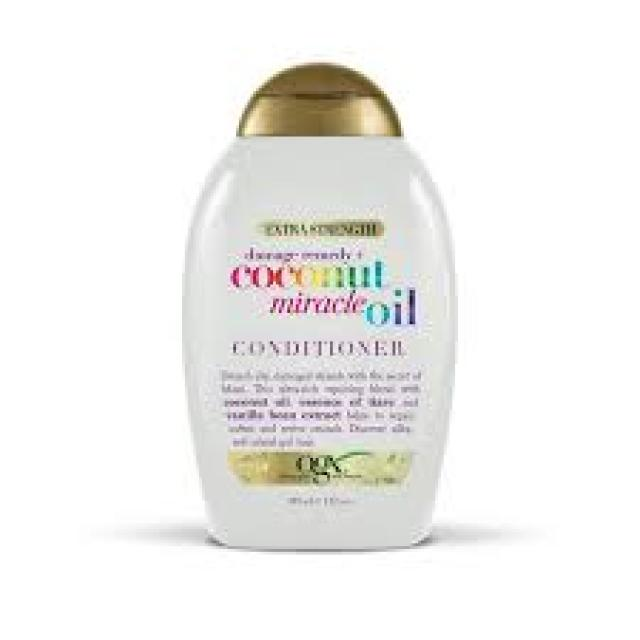Botella: (174, 39, 470, 555)
